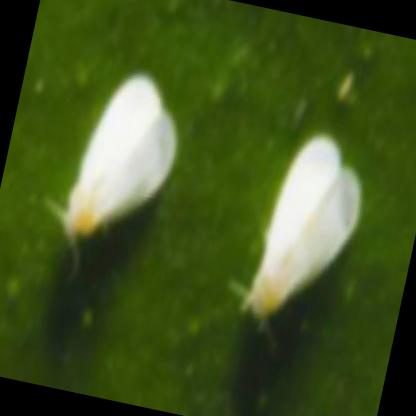whitefly: (245, 133, 360, 315), (63, 73, 178, 238)
